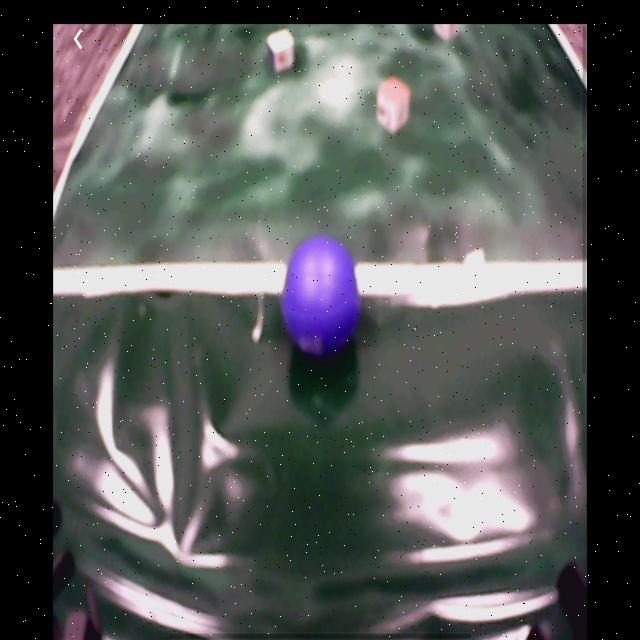ball: (282, 238, 362, 358)
